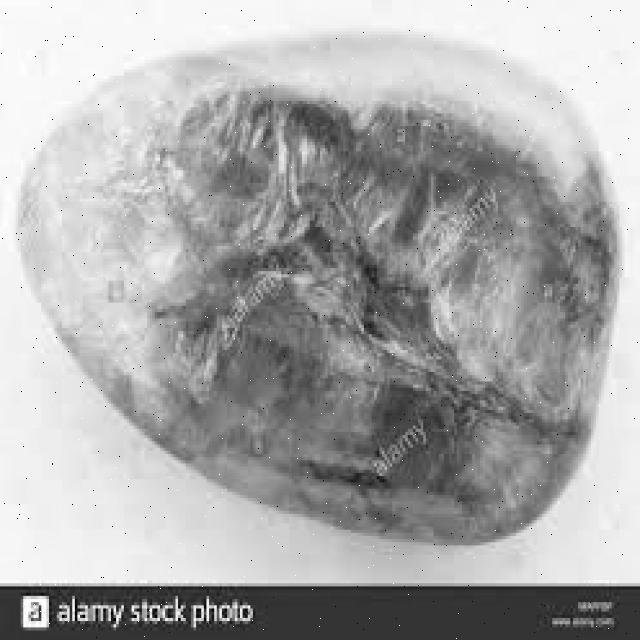Metamorphic: (8, 22, 604, 542)
